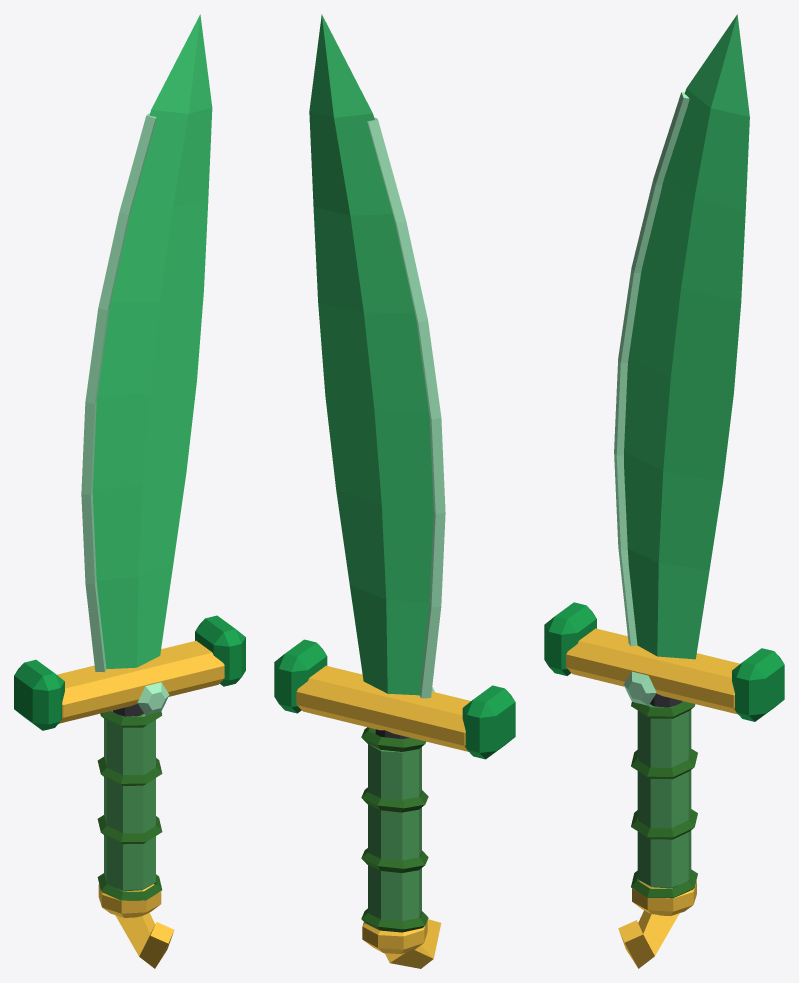
Rendered from EmeraldScimitar.fbx.
3 renders of one model, left to right at view 1: azimuth 30°, elevation 25°; view 2: azimuth 150°, elevation 25°; view 3: azimuth 330°, elevation 25°, orthographic. The views are drawn at different scales.
Parts seen in each view (by area): view 1: EmeraldScimitar; view 2: EmeraldScimitar; view 3: EmeraldScimitar.
Part boxes in pixels (x1,y1,x2,y2): EmeraldScimitar: (14,14,245,968); EmeraldScimitar: (274,14,515,968); EmeraldScimitar: (544,14,784,968).
Size of the model in its own units: 1.06 by 4.37 by 0.4747.
1 material, 1 textured.
